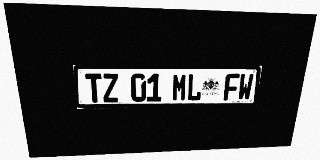0: (130, 73, 146, 102)
1: (146, 73, 162, 102)
F: (223, 73, 240, 100)
L: (187, 73, 202, 101)
M: (172, 73, 187, 101)
T: (85, 73, 103, 103)
W: (237, 73, 254, 100)
Z: (102, 73, 119, 102)
